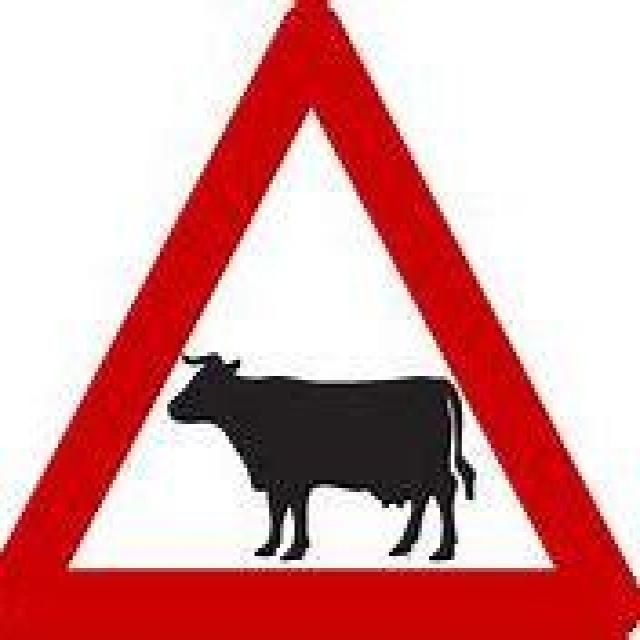CATTLE: (0, 0, 636, 636)
